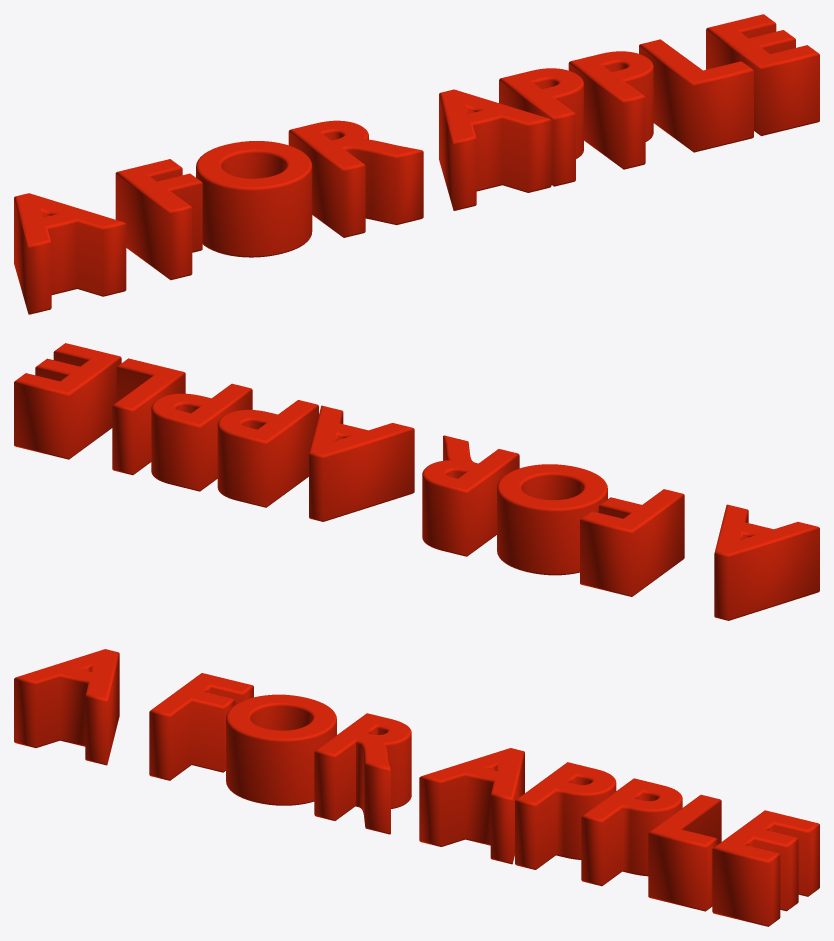
Rendered from A FOR APPLE.fbx.
3 renders of one model, top to bottom at view 1: azimuth 30°, elevation 25°; view 2: azimuth 150°, elevation 25°; view 3: azimuth 330°, elevation 25°, orthographic. The views are drawn at different scales.
Visible parts, largest first — view 1: Text; view 2: Text; view 3: Text.
Part boxes in pixels (x1,y1,x2,y2): Text: (14, 14, 819, 314); Text: (14, 343, 819, 620); Text: (14, 649, 819, 926).
Size of the model in its own units: 637 by 54 by 78.01.
